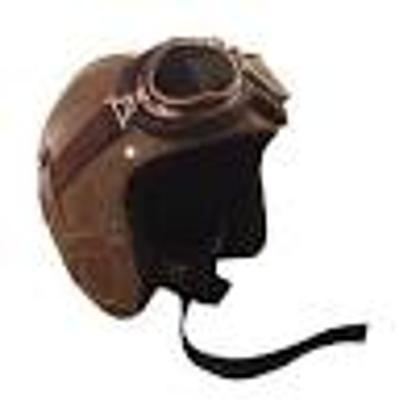not trash: (40, 36, 366, 376)
